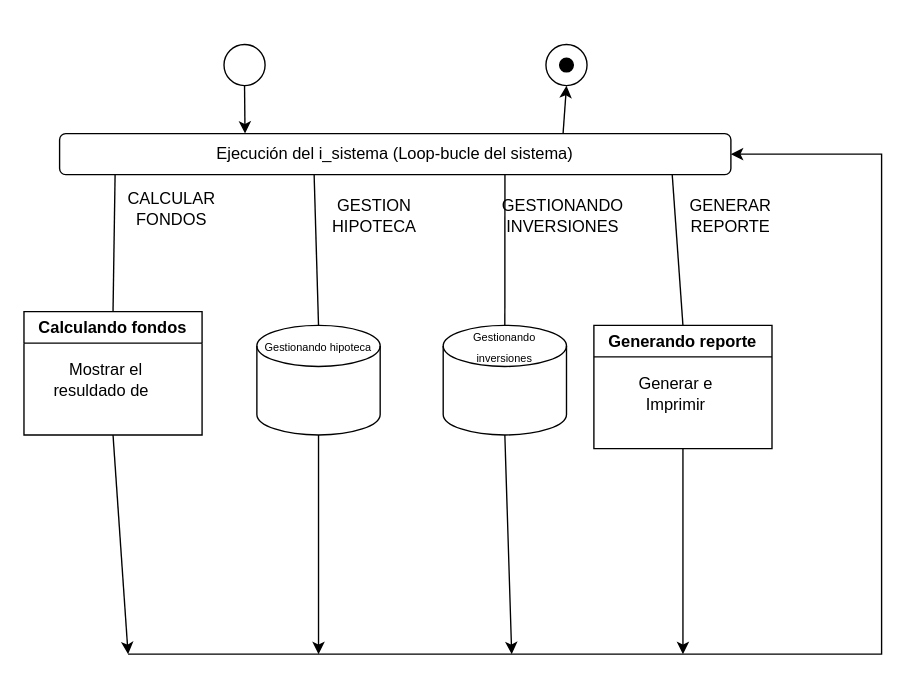
Image size: 917x689. Some labels were removed from this diagram. The box of each missing label's shape, as (x1, y1, x2, y2) in pixels:
CRUD hipotecas: (256, 324, 380, 435)
CRUD inversiones: (442, 324, 566, 435)
